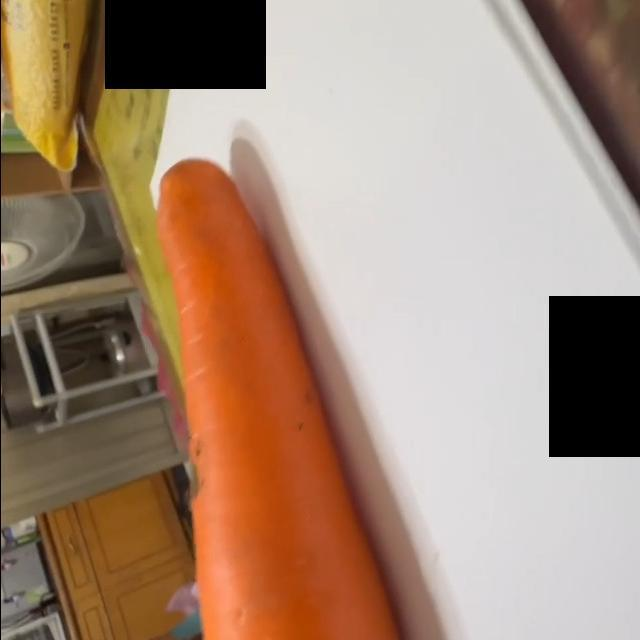carrot: (152, 160, 410, 640)
